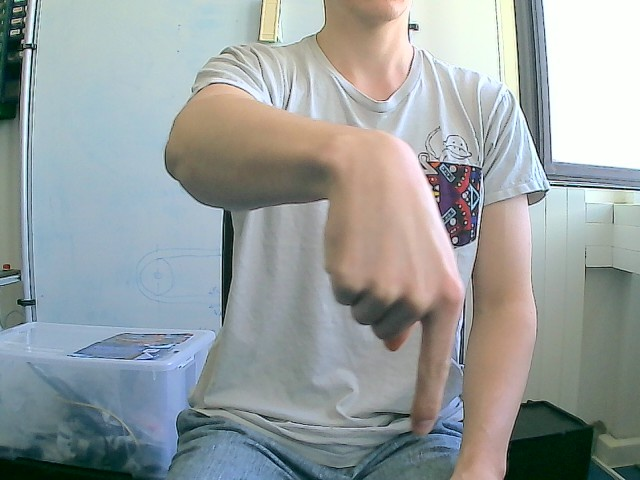down: (320, 128, 467, 436)
